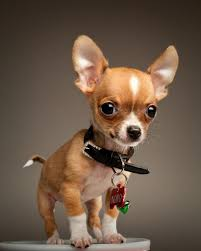Bulldog: (24, 33, 177, 246)
